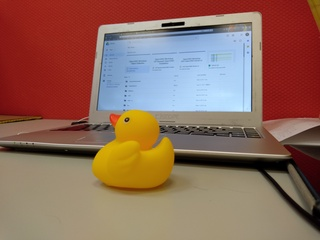duck: (86, 108, 183, 197)
